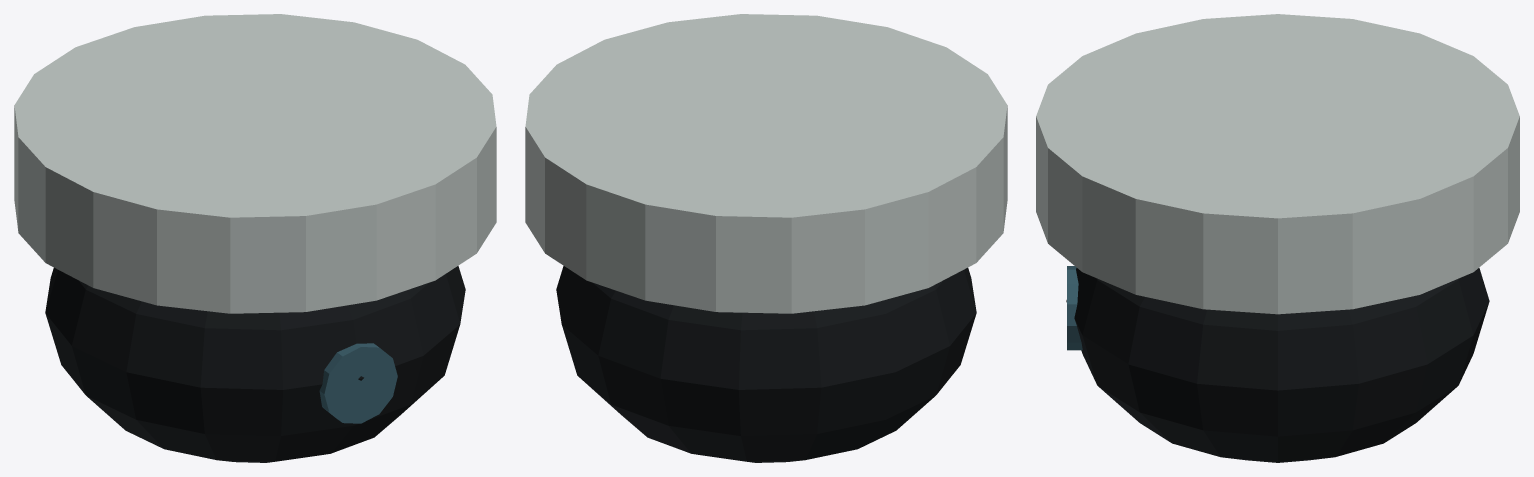
The model's file is DomeSecurityCamera.fbx.
3 renders of one model, left to right at view 1: azimuth 30°, elevation 25°; view 2: azimuth 150°, elevation 25°; view 3: azimuth 270°, elevation 25°, orthographic.
Parts seen in each view (by area): view 1: DomeSecurityCamera; view 2: DomeSecurityCamera; view 3: DomeSecurityCamera.
Boxes of the visible parts, x1=… form: DomeSecurityCamera: x1=14, y1=14, x2=496, y2=462; DomeSecurityCamera: x1=525, y1=14, x2=1007, y2=462; DomeSecurityCamera: x1=1036, y1=14, x2=1519, y2=462.
Size of the model in its own units: 32 by 23.58 by 32.
1 material, 1 textured.
